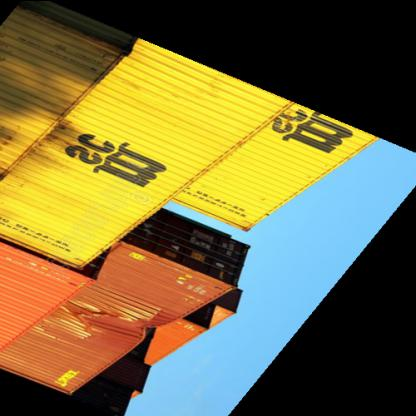Damage: (75, 292, 176, 334)
